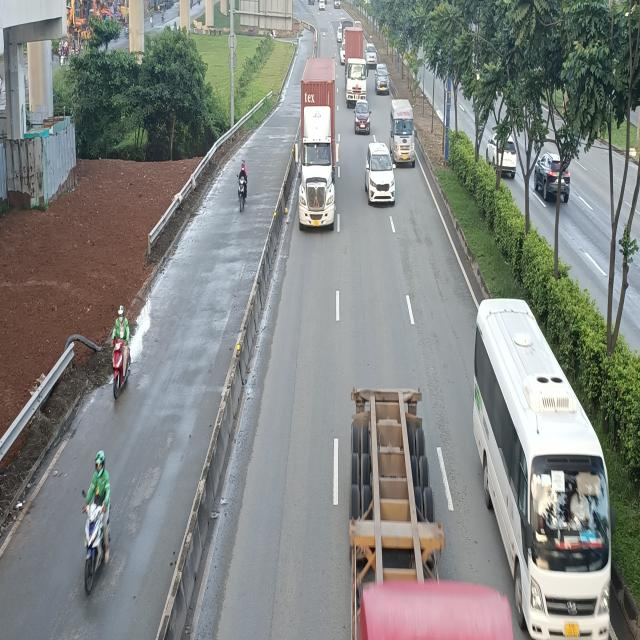car: (365, 143, 397, 207), (353, 101, 371, 136)
coach: (471, 290, 615, 633)
container: (345, 391, 508, 640), (295, 58, 338, 232), (342, 26, 368, 106)
van: (388, 99, 416, 168)
